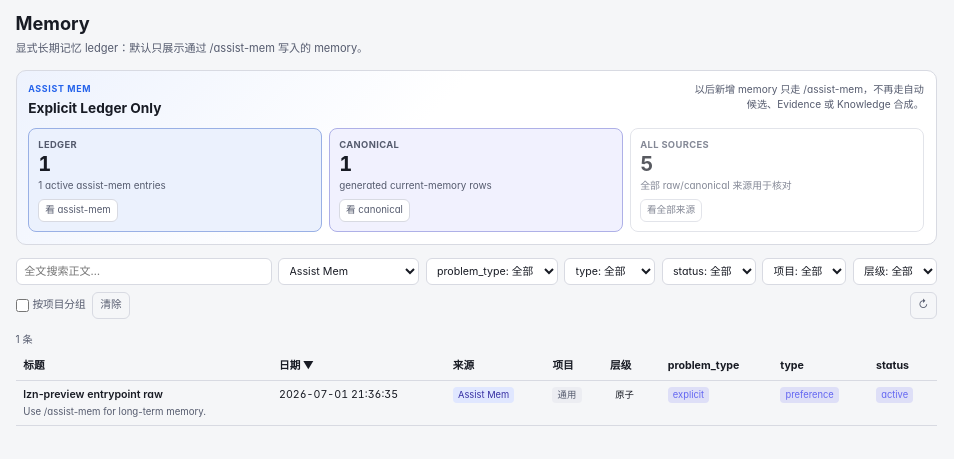
MemoryPage › shows canonical rows through the source dropdown option
Select "Canonical generated" in the dropdown named "source 过滤" at coordinates (348, 272), box [278, 258, 419, 285]
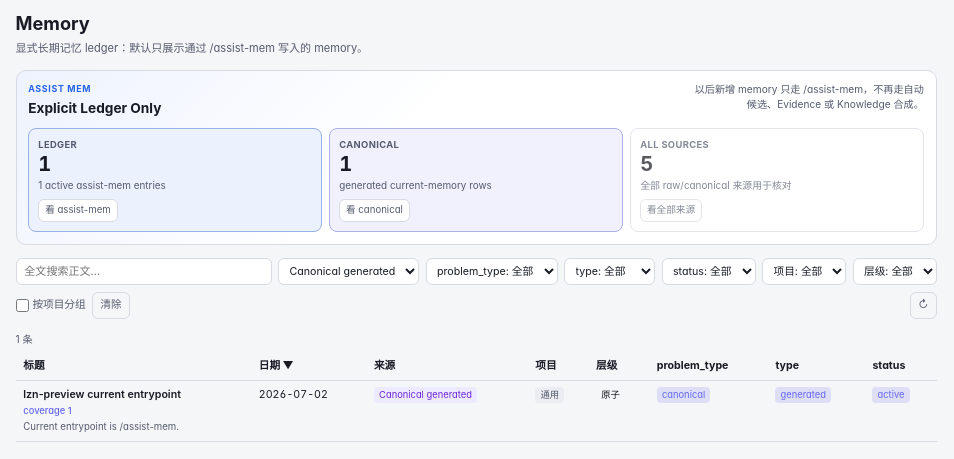
Check: the text "Canonical generated" is shown, box [374, 387, 477, 403]
Check: the text "lzn-preview entrypoint raw" is gone
